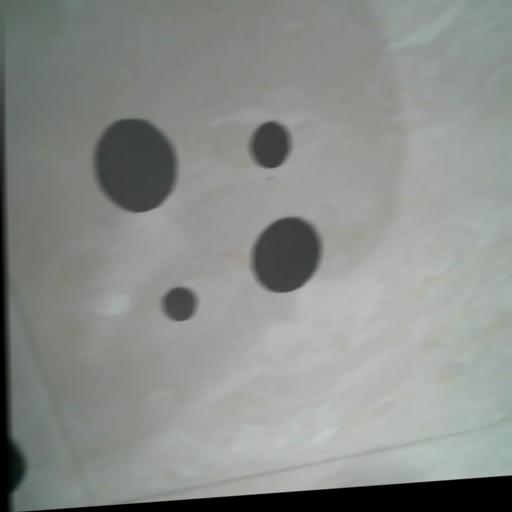pothole: (92, 115, 178, 215), (251, 214, 322, 295), (249, 119, 292, 170), (162, 284, 198, 322)
